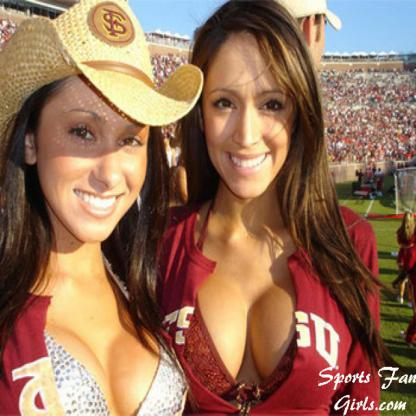face: (38, 79, 148, 243), (204, 40, 293, 200)
